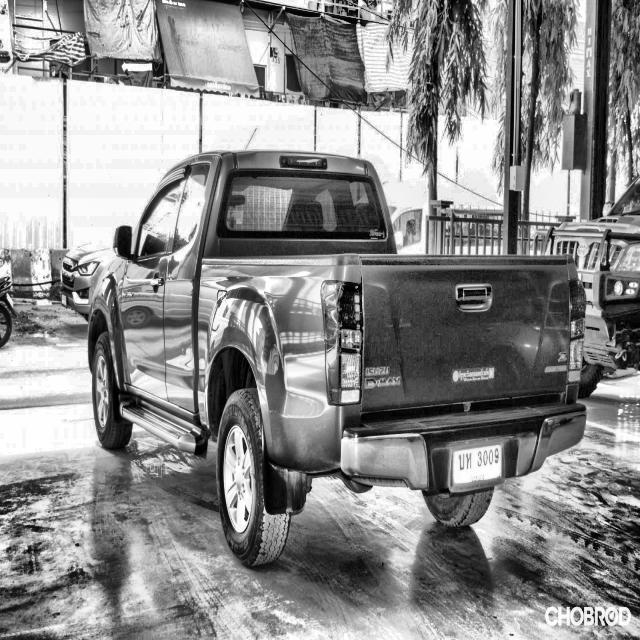license-plate: (449, 444, 504, 488)
